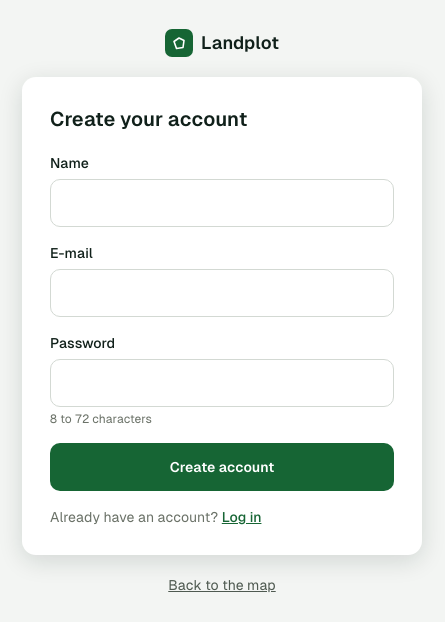
RegisterPage › shows the duplicate e-mail error on the email field (409)
In the field labelled "Name": {"x": 222, "y": 203} [50,179,394,227], type "Ana"
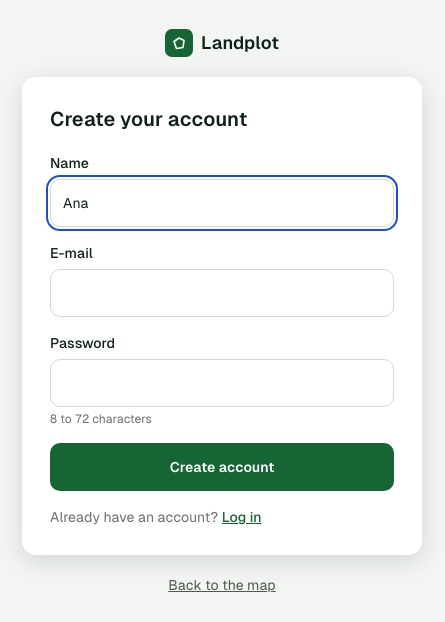
In the field labelled "E-mail": {"x": 222, "y": 293} [50,269,394,317], type "ana@example.com"
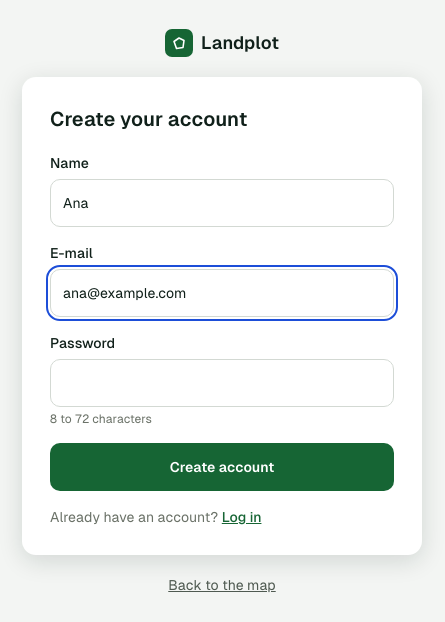
In the password field labelled "Password": {"x": 222, "y": 383} [50,359,394,407], type "secret-123"
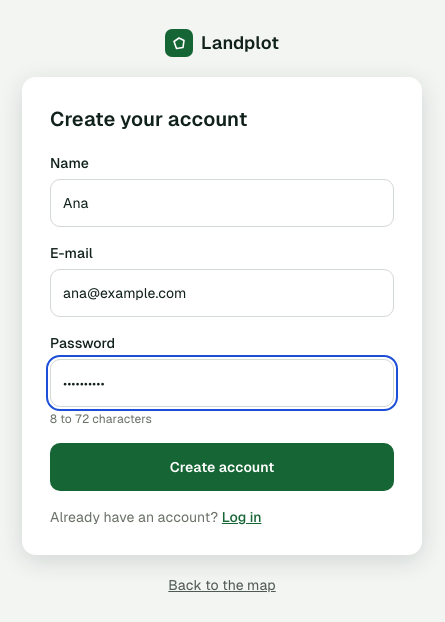
Click the button "Create account": {"x": 222, "y": 467} [50,443,394,491]
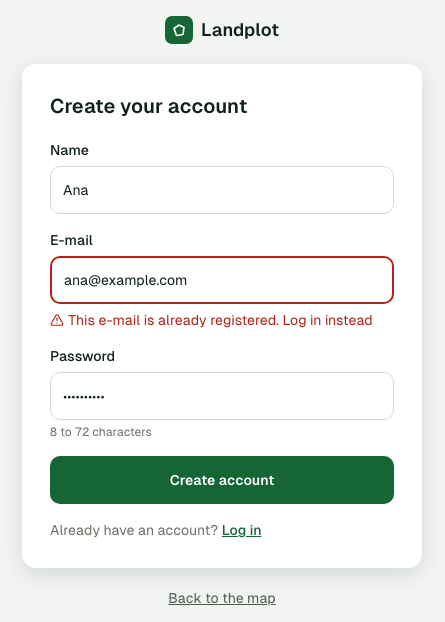
Check: the text "This e-mail is already registered. Log in instead" is shown, box [50,310,394,330]
